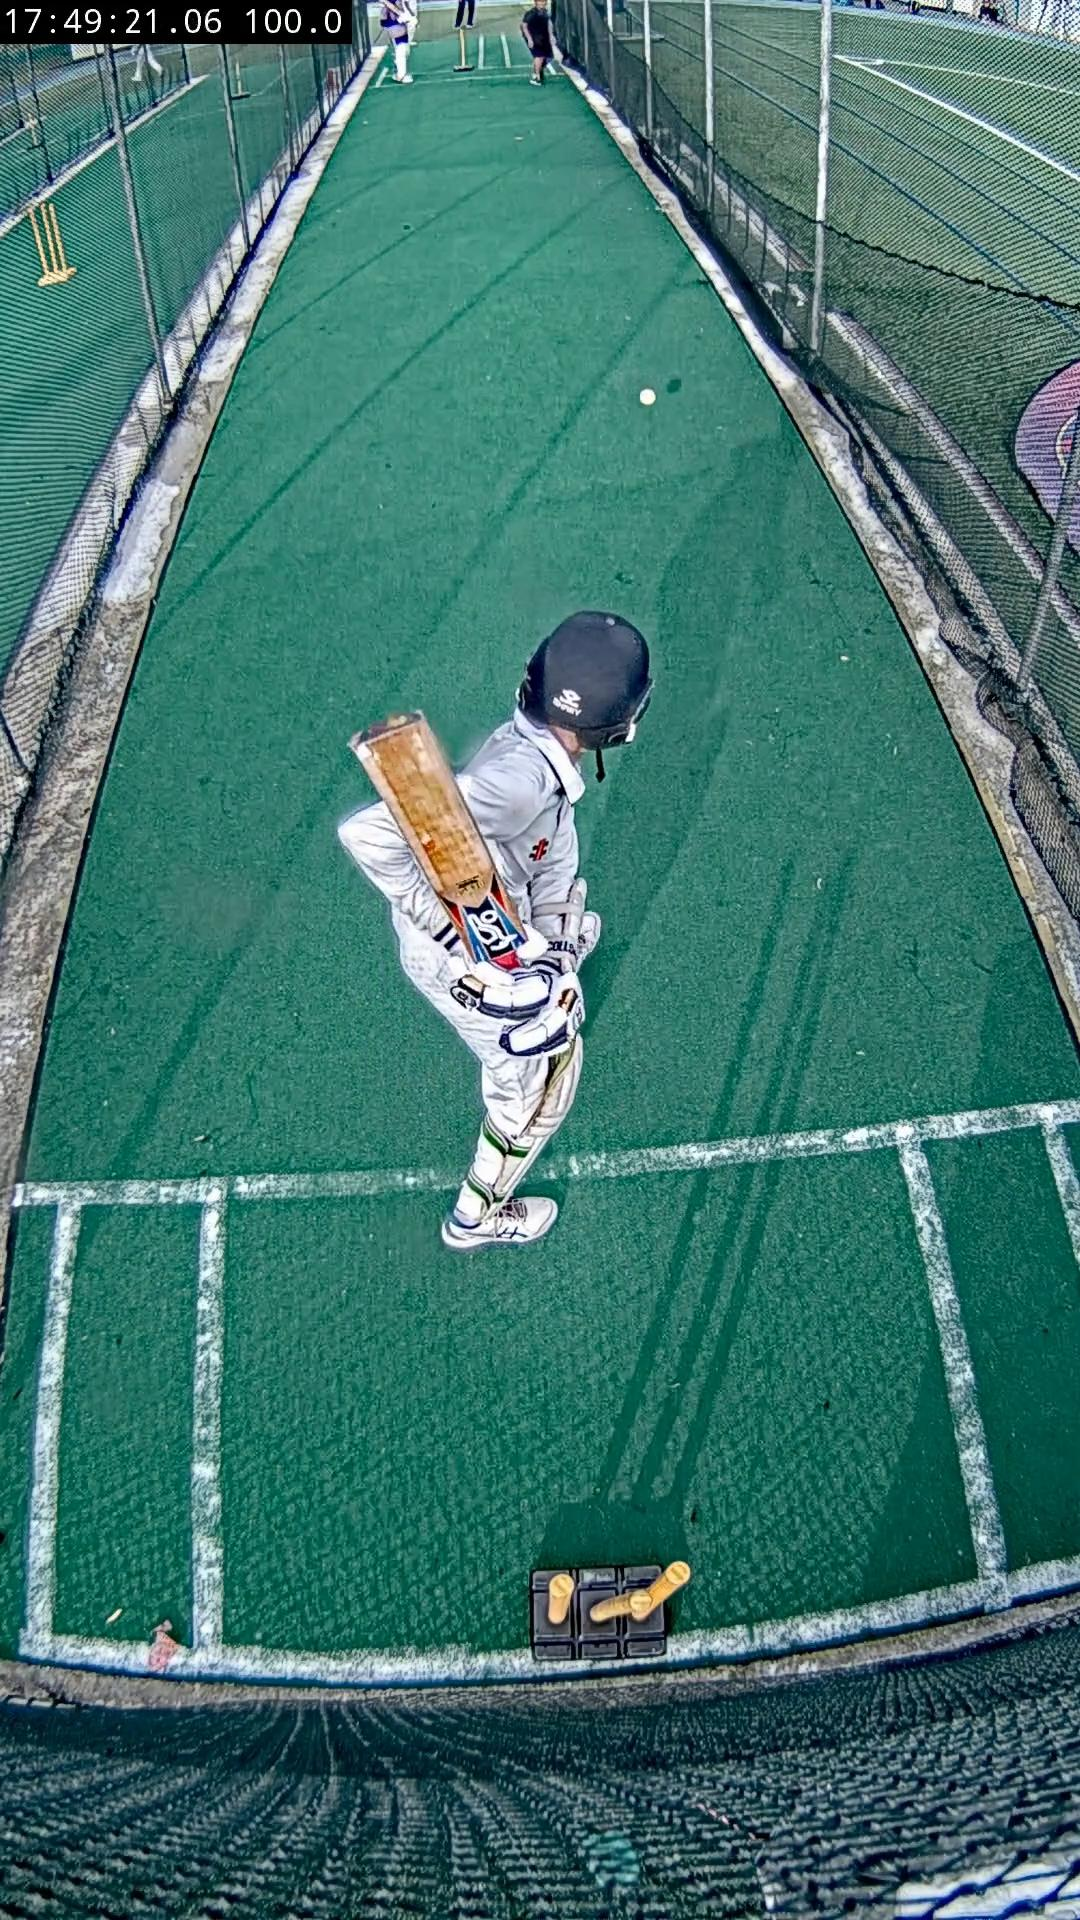ball: (637, 390, 657, 405)
bat: (348, 712, 529, 972)
gloves: (450, 964, 585, 1058)
helmet: (517, 612, 653, 750)
pads: (492, 1035, 582, 1199)
stumps: (529, 1560, 690, 1662)
